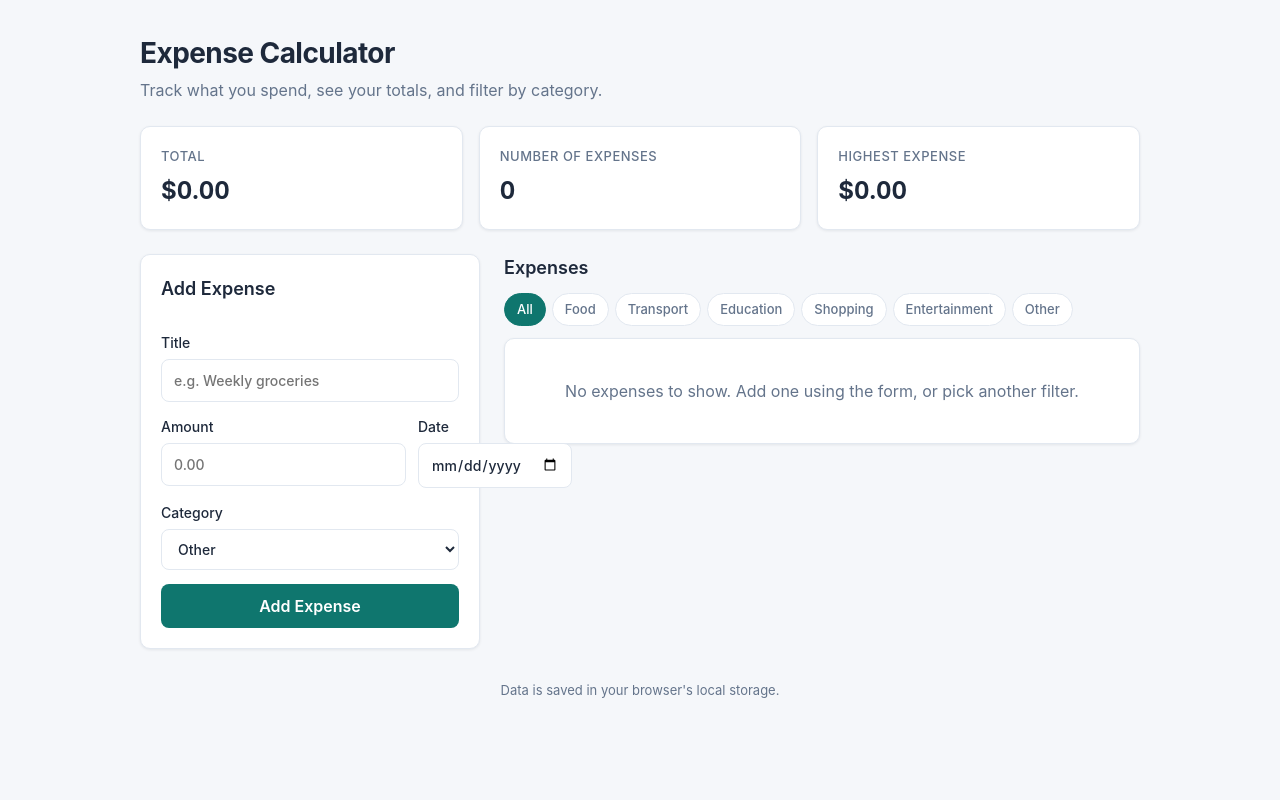
App integration › rejects a non-positive amount
The width and height of the screenshot is (1280, 800).
Type "Coffee" into the field labelled "Title". click: (310, 380)
box: [161,358,459,402]
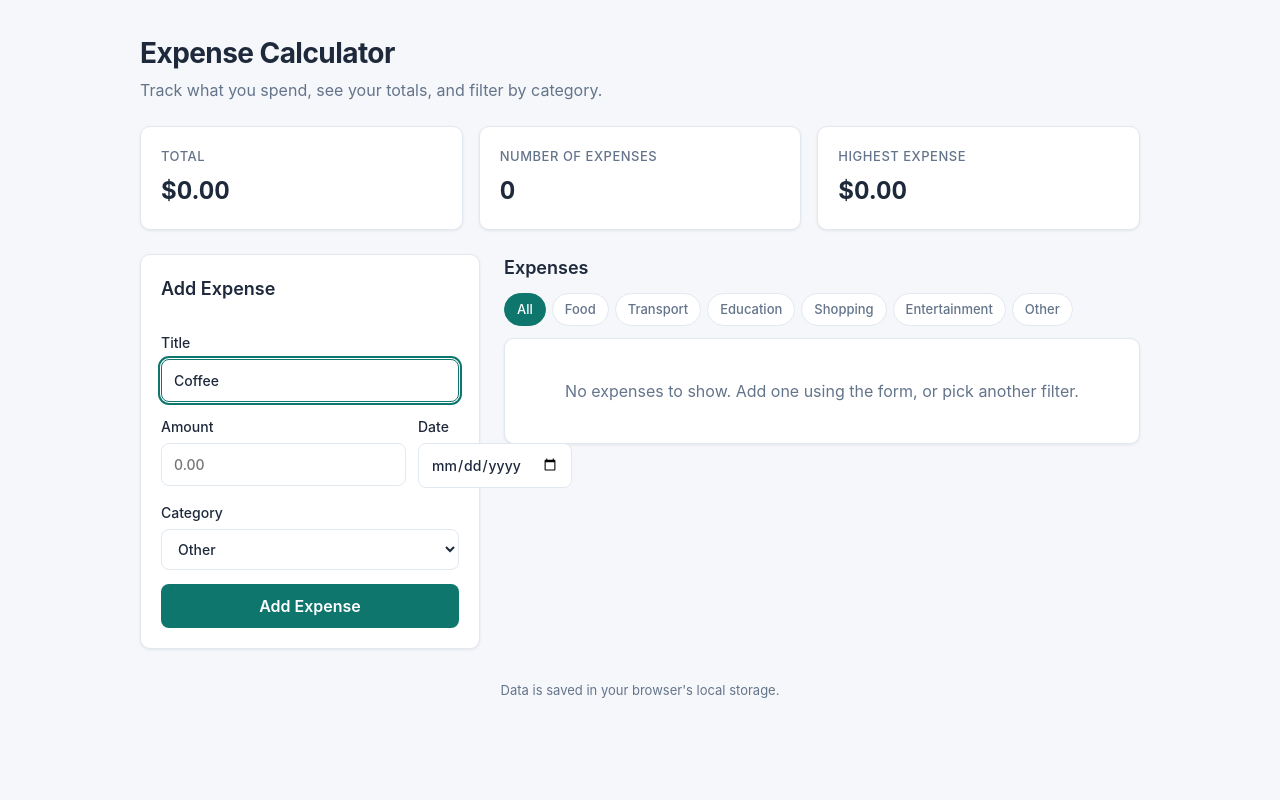
Type "-4" into the number field labelled "Amount". click: (284, 464)
box: [161,442,406,486]
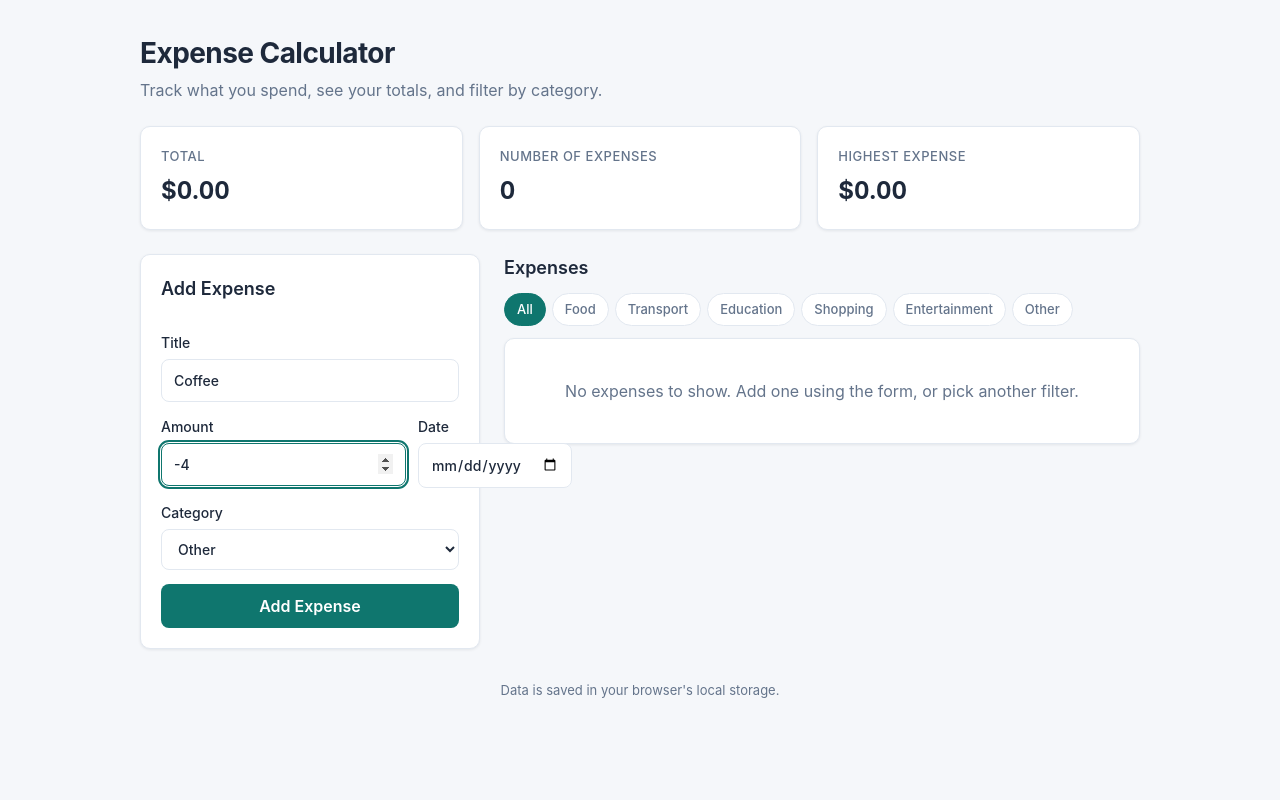
Select "Food" in the dropdown labelled "Category". click: (310, 549)
box: [161,528,459,570]
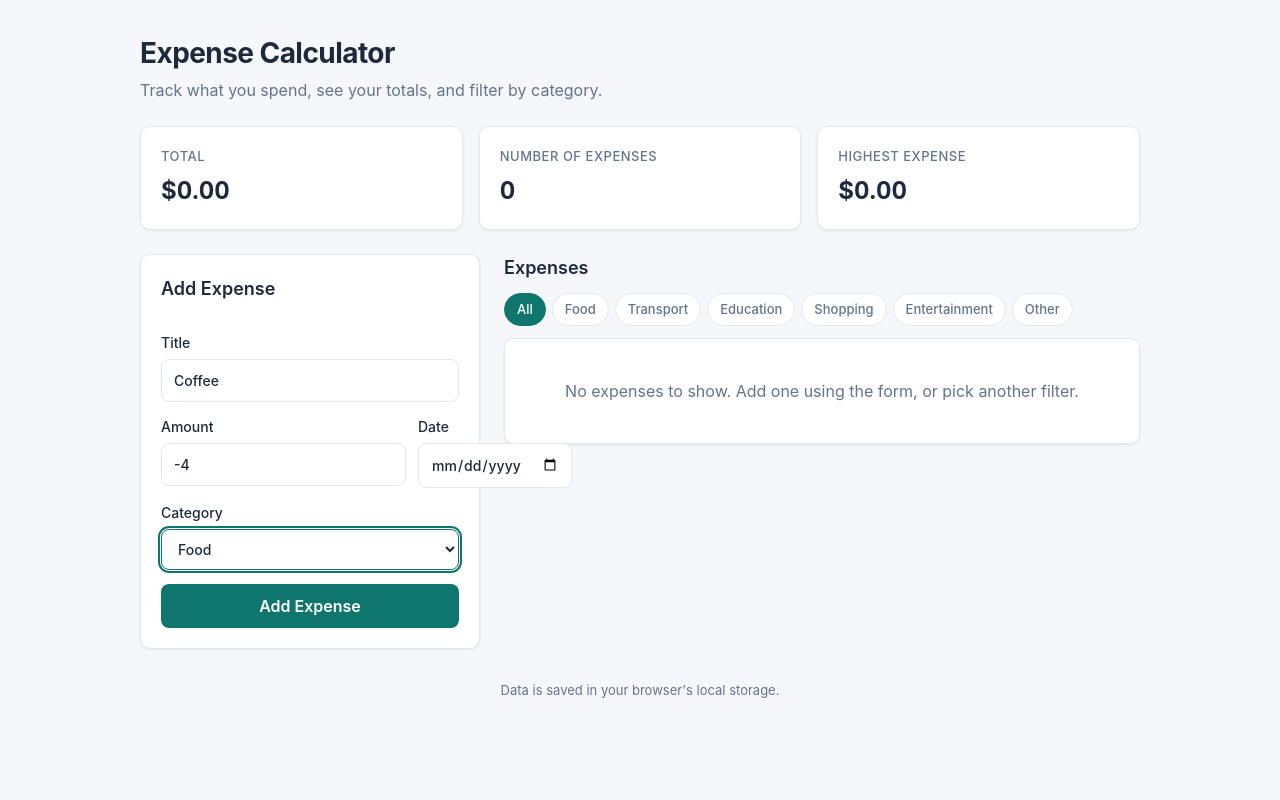
Type "2026-11-20" into the date field labelled "Date". click: (495, 465)
box: [418,442,572,488]
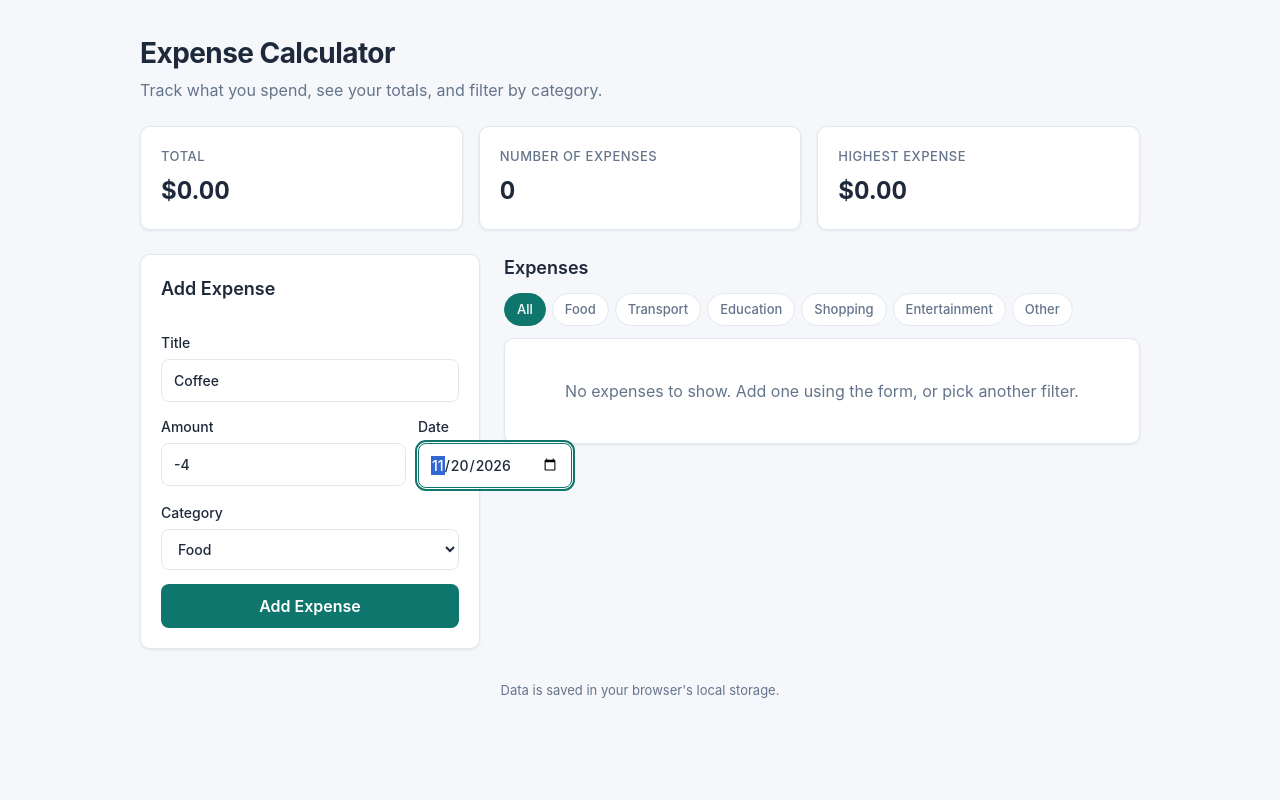
Click the button "Add Expense". click: click(310, 606)
box: [161,584,459,628]
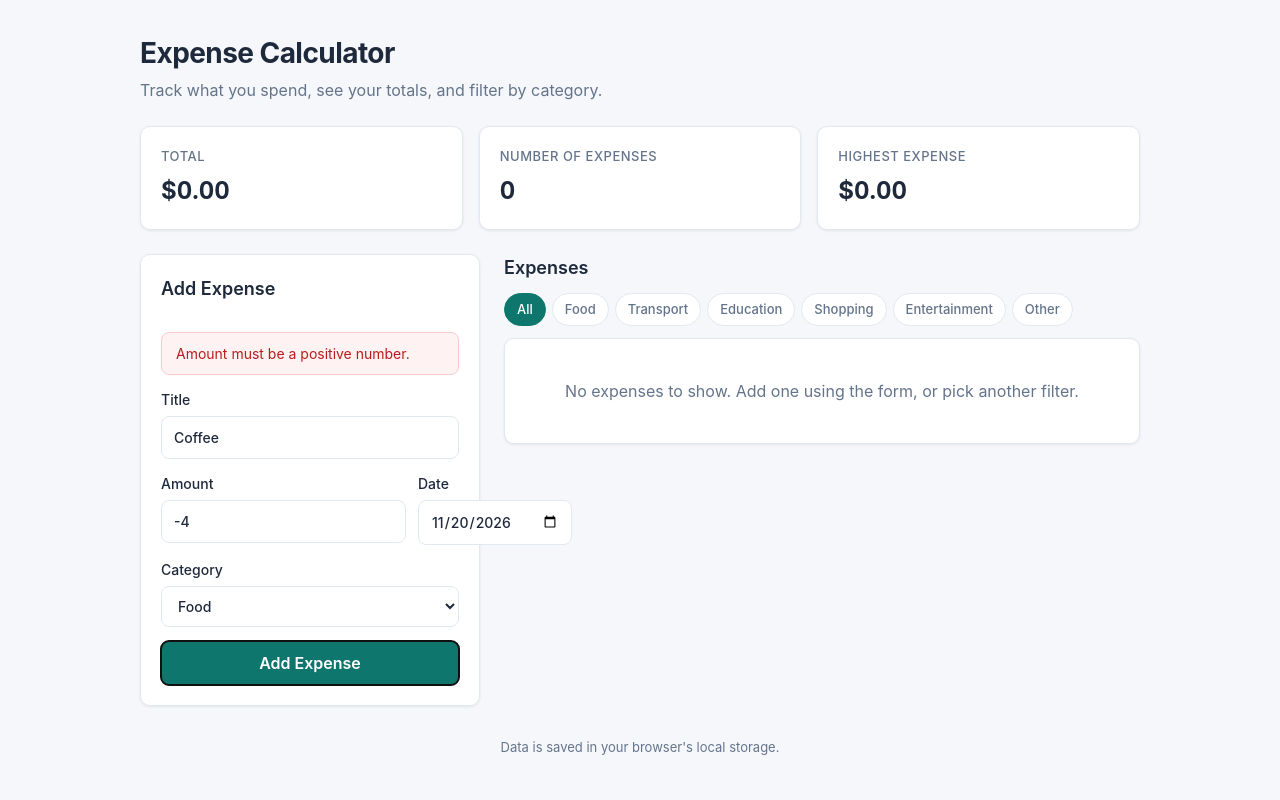
Expected: the message shows "positive number", [176,344,410,362]
